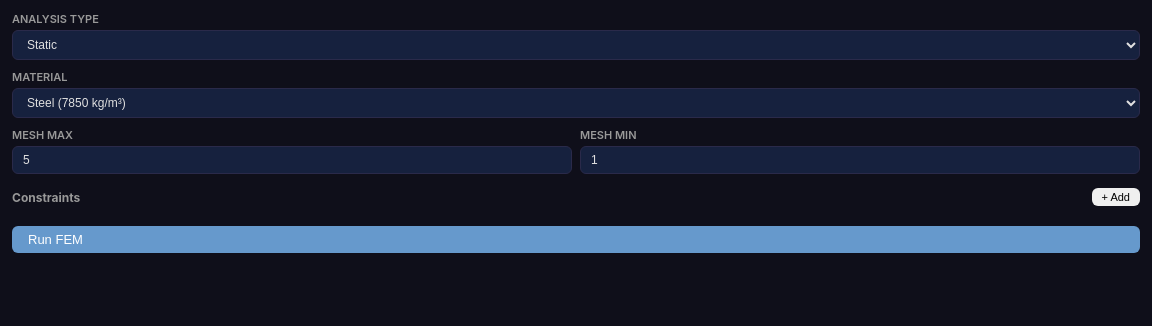
Test: FemPanel › shows Number of Modes input when frequency analysis is selected
Select "Modal (Frequency)" in the dropdown labelled "Analysis Type": (576, 45) x1=12 y1=30 x2=1140 y2=60
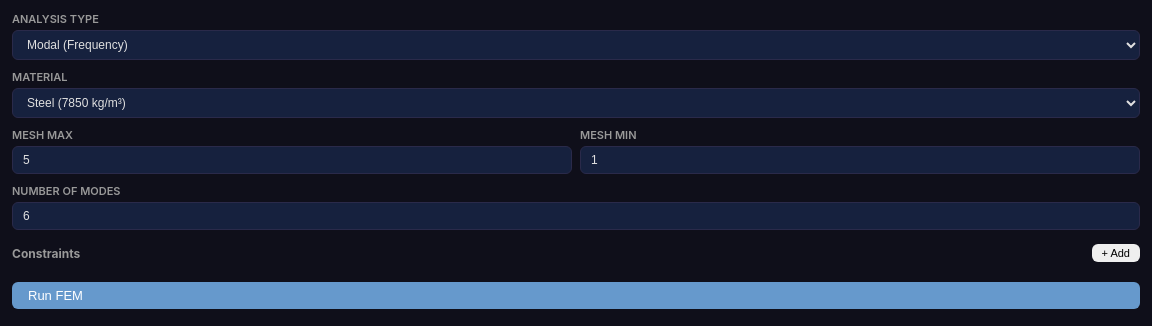
Now the text "Number of Modes" is shown, box x1=12 y1=184 x2=120 y2=198
